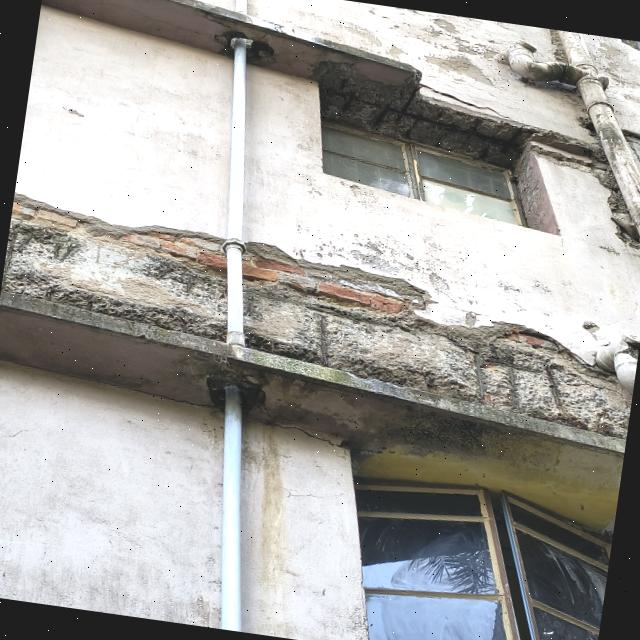Crack: (269, 417, 365, 460)
Scaling: (406, 11, 640, 120), (545, 109, 640, 256)
Spalling: (41, 0, 595, 170), (243, 245, 631, 439), (3, 195, 226, 342), (433, 136, 439, 141)
